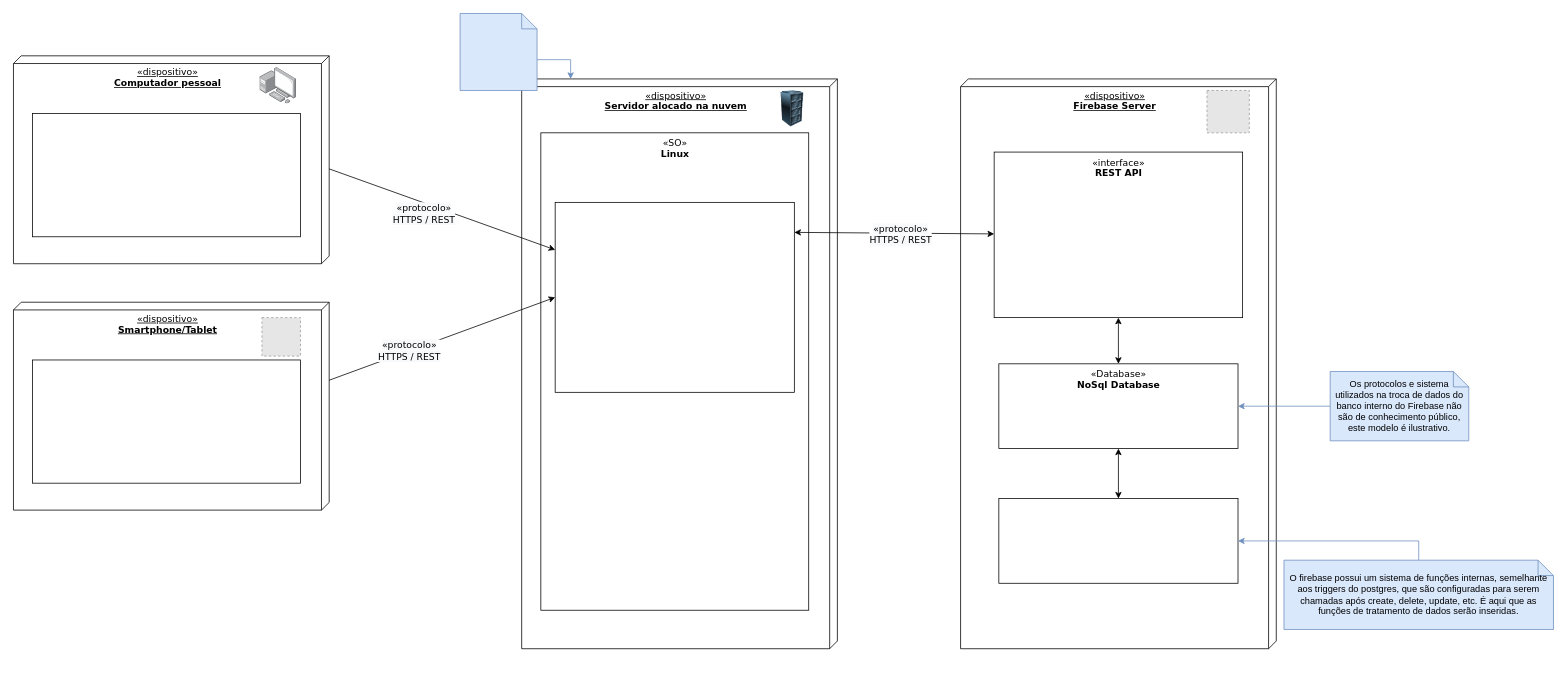
This 1567x681 diagram has some shape labels left out. Grey dashed boxes stand in for pictures. Each missing label, with the centre of its shape:
"Na implementação que faremos, esse servidor será provido pelo Github Pages." belongs at pixel 498 51.
"«Cloud Functions» Tratamento de dados" belongs at pixel 1118 540.
"«navegador mobile»" belongs at pixel 166 421.
"«navegador»" belongs at pixel 166 175.
"«servidor web» Angular (aplicação responsiva)" belongs at pixel 674 297.
